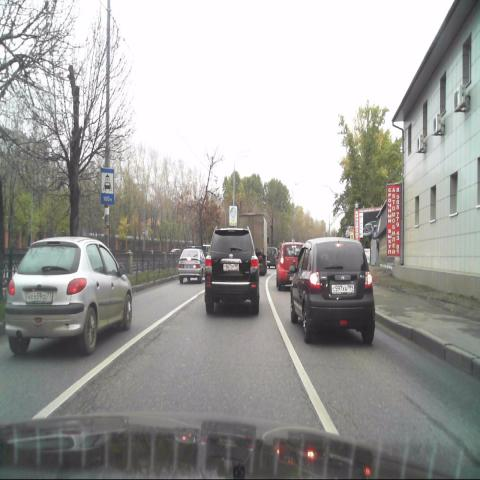7_5: (100, 166, 114, 205)
